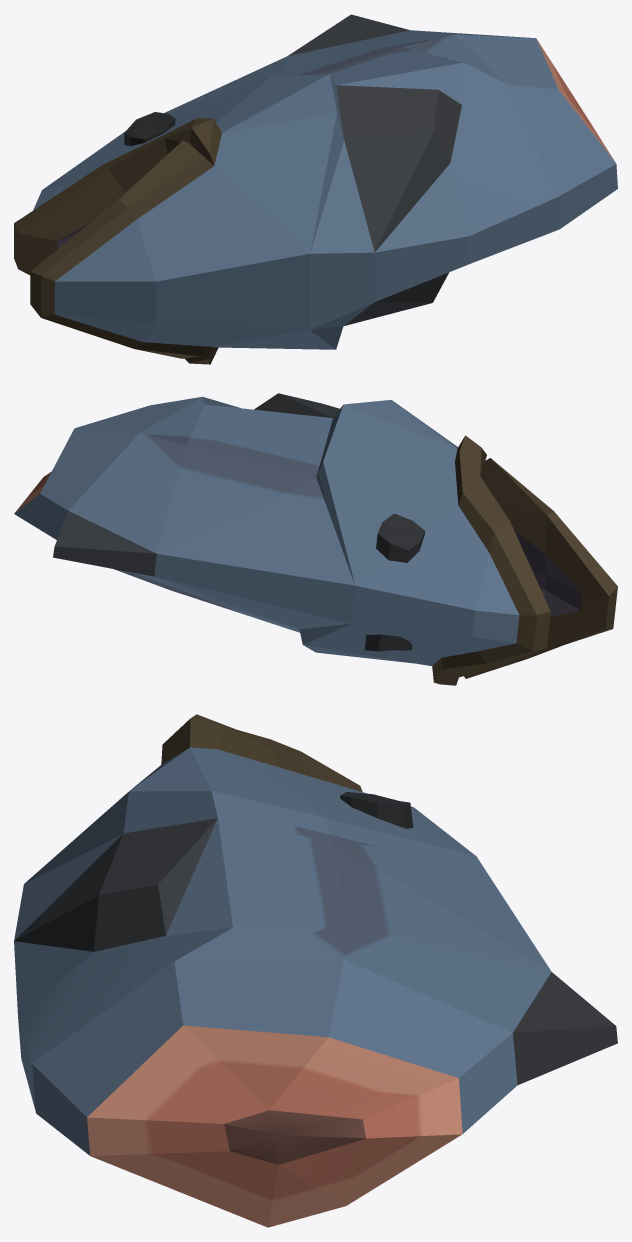
File: SM_Prop_Food_Fish_02.fbx
3 renders of one model, top to bottom at view 1: azimuth 30°, elevation 25°; view 2: azimuth 150°, elevation 25°; view 3: azimuth 270°, elevation 25°, orthographic. The views are drawn at different scales.
Parts seen in each view (by area): view 1: SM_Prop_Food_Fish_02; view 2: SM_Prop_Food_Fish_02; view 3: SM_Prop_Food_Fish_02.
Part boxes in pixels (x1,y1,x2,y2): SM_Prop_Food_Fish_02: (14, 14, 617, 364); SM_Prop_Food_Fish_02: (14, 393, 617, 685); SM_Prop_Food_Fish_02: (14, 714, 617, 1227).
Bounding box in the file's own units: 20.19 × 9.2 × 13.43.
